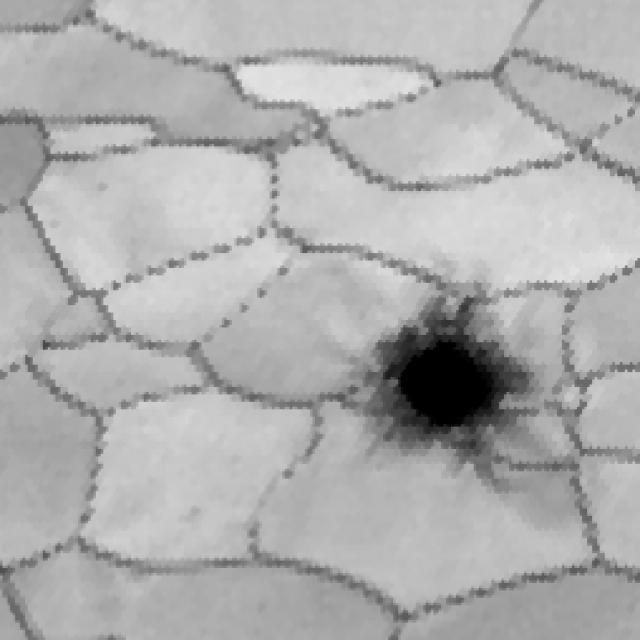good_void: (339, 279, 572, 525)
